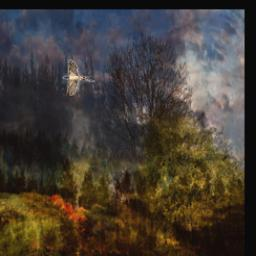Swallow: (62, 60, 95, 97)
